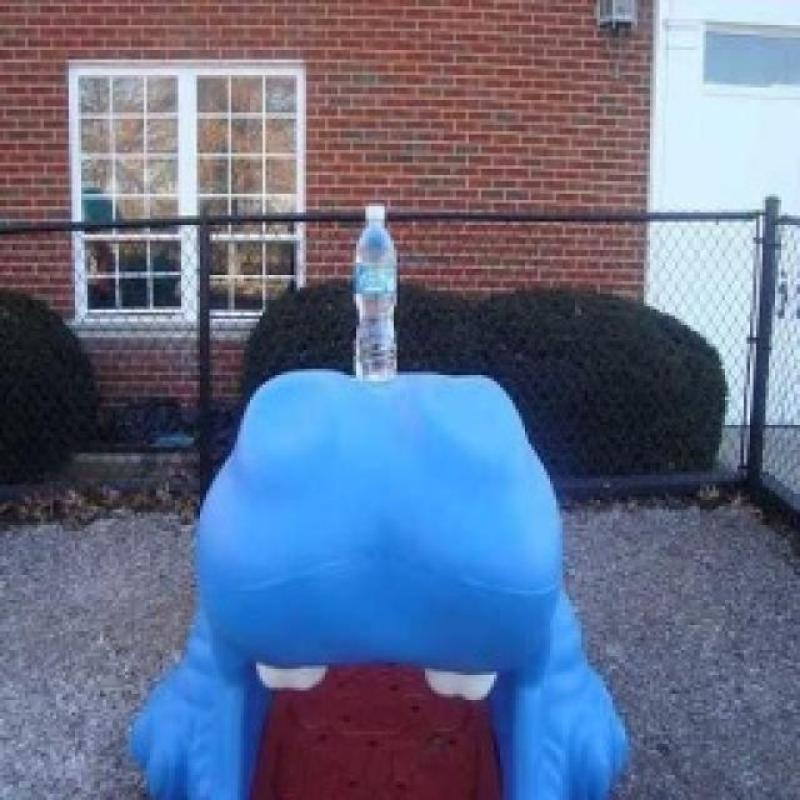botella: (351, 201, 399, 380)
